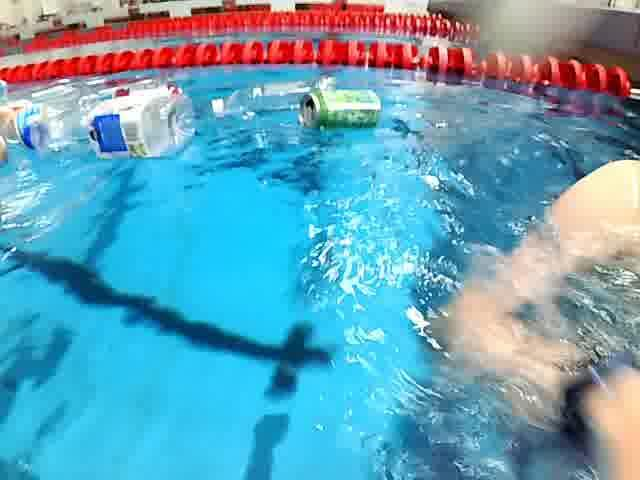Bottle: (18, 86, 201, 162), (208, 71, 347, 129)
Can: (292, 85, 390, 132)
